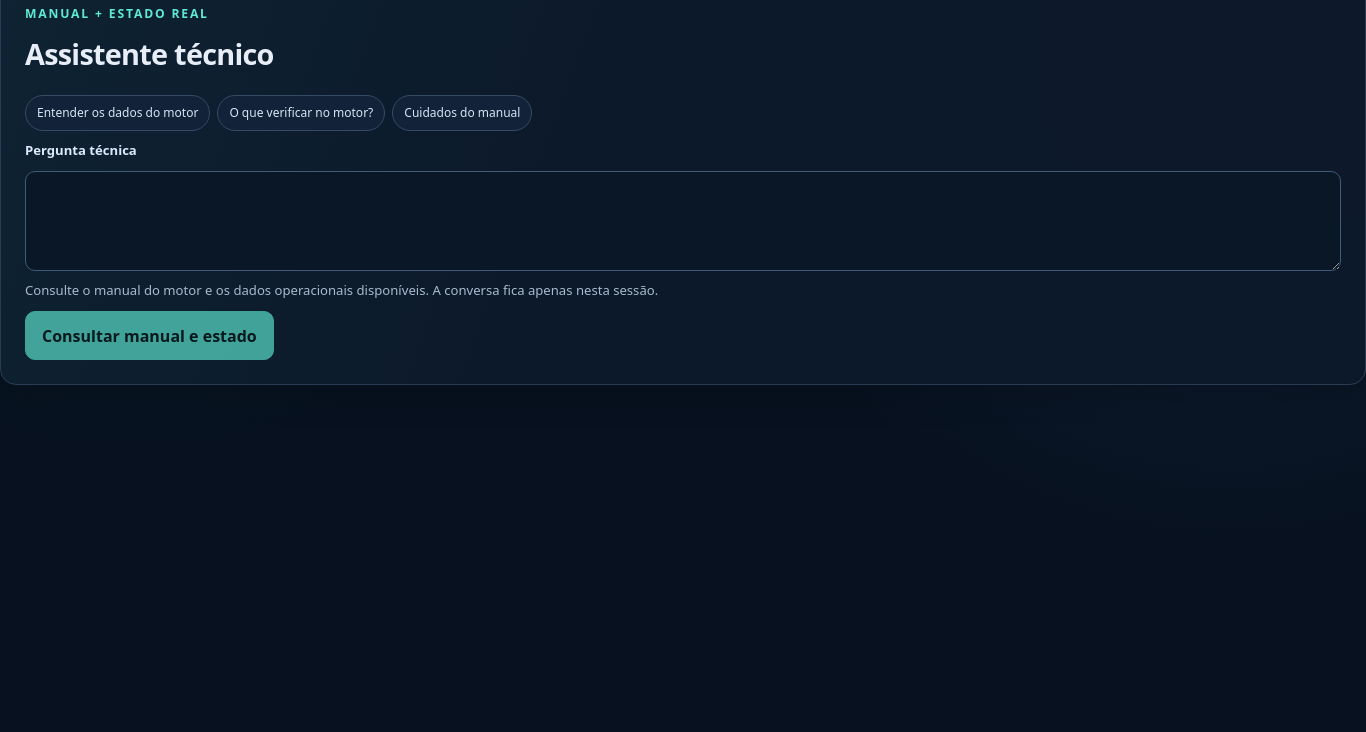
TechnicalAssistantPanel explicit safety states › renders out_of_scope as a first-class state
The image size is (1366, 732).
Type "Explique o estado" into the text box labelled "Pergunta técnica" at (683, 221), box [25,171,1341,271]
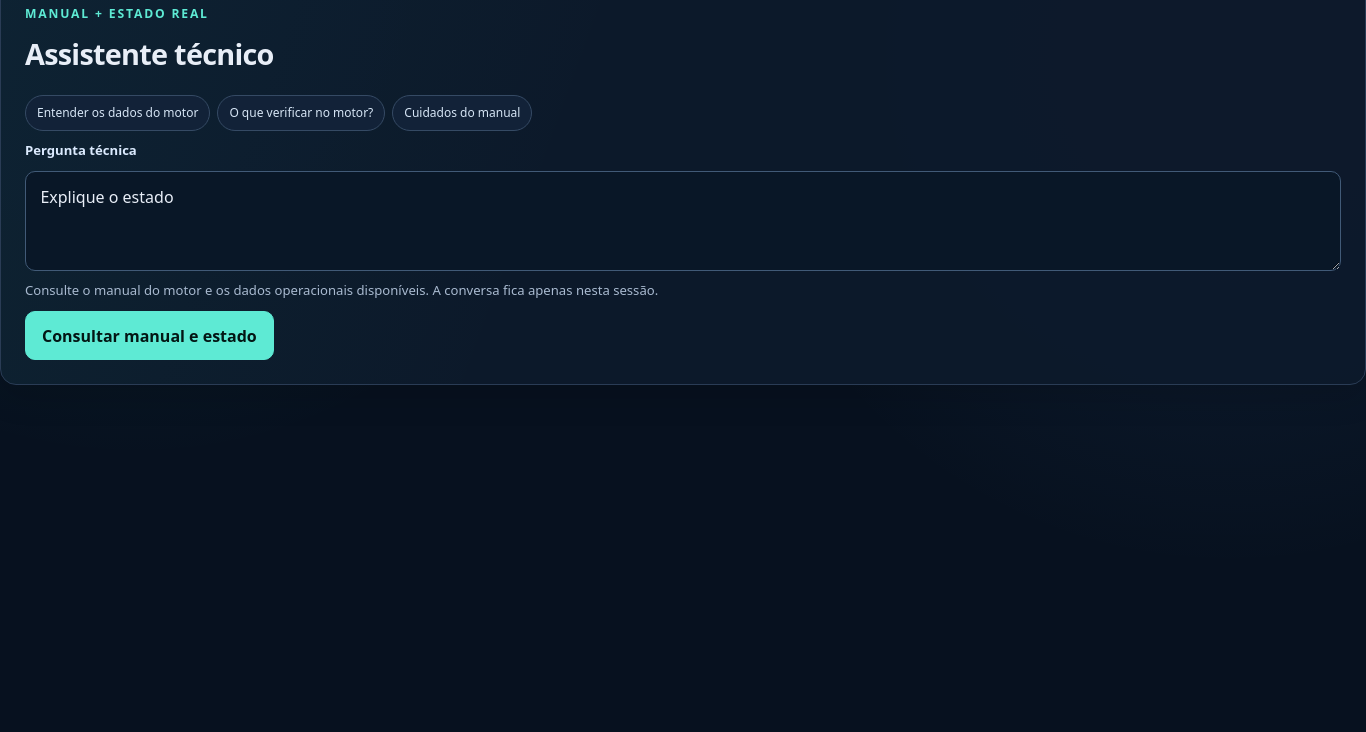
Submit the form named "Consultar o assistente técnico", box [25,141,1341,360]
(page scrolled)
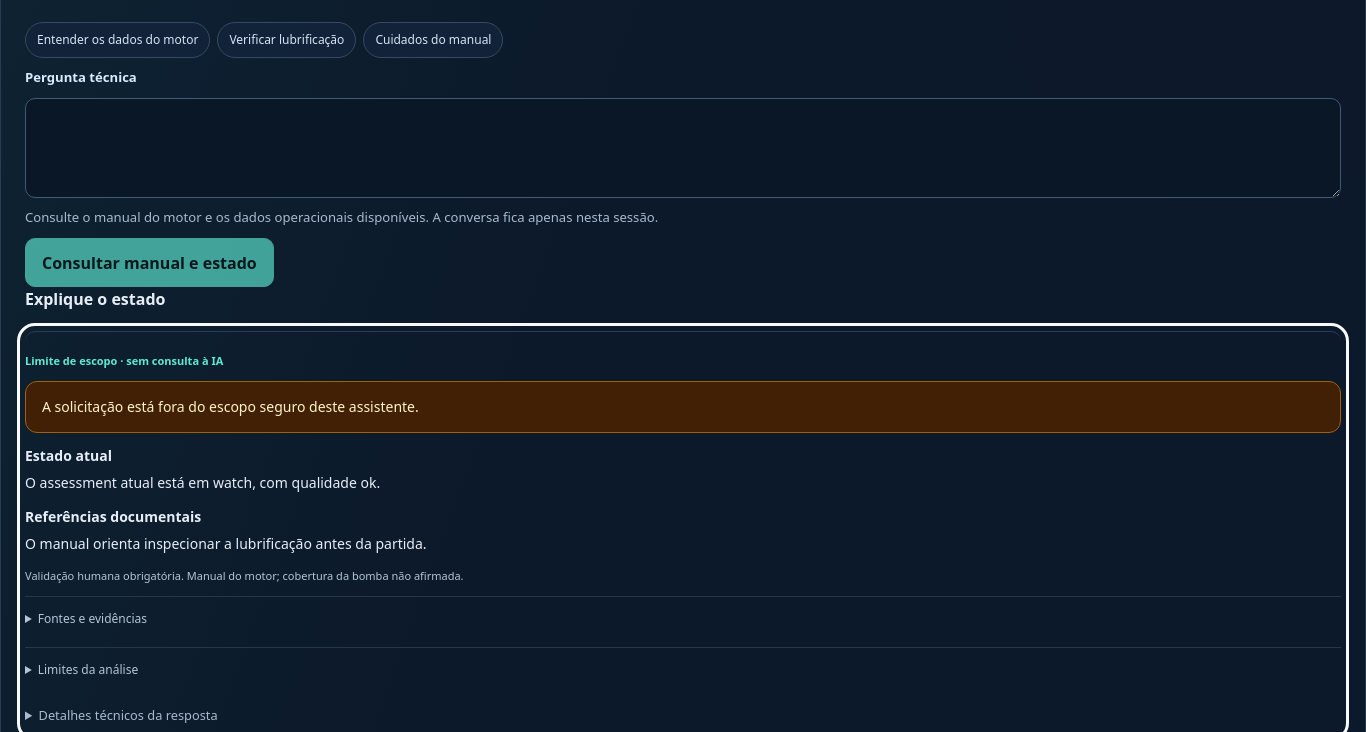
Check: the text "A solicitação está fora do escopo seguro deste assistente." is shown, box [25,381,1341,433]
Check: the heading "Referências documentais" is shown, box [25,507,201,526]
Check: the heading "Estado atual" is shown, box [25,446,112,465]
